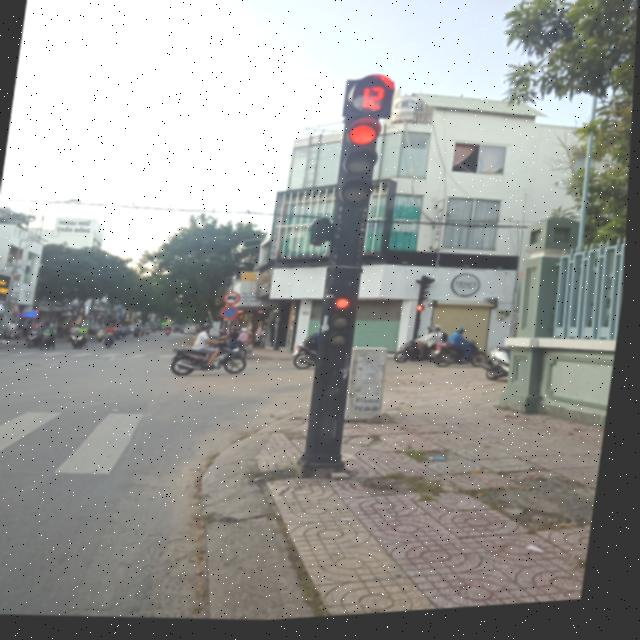Red: (334, 118, 388, 215), (321, 296, 365, 359)
